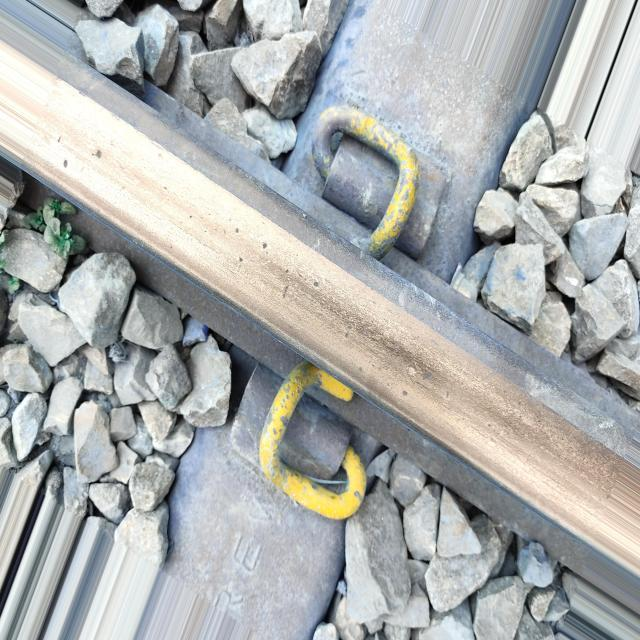broken_rail_medium: (283, 263, 324, 307), (56, 135, 104, 171), (234, 223, 268, 269), (400, 371, 436, 399), (344, 319, 354, 344), (356, 360, 362, 374)
